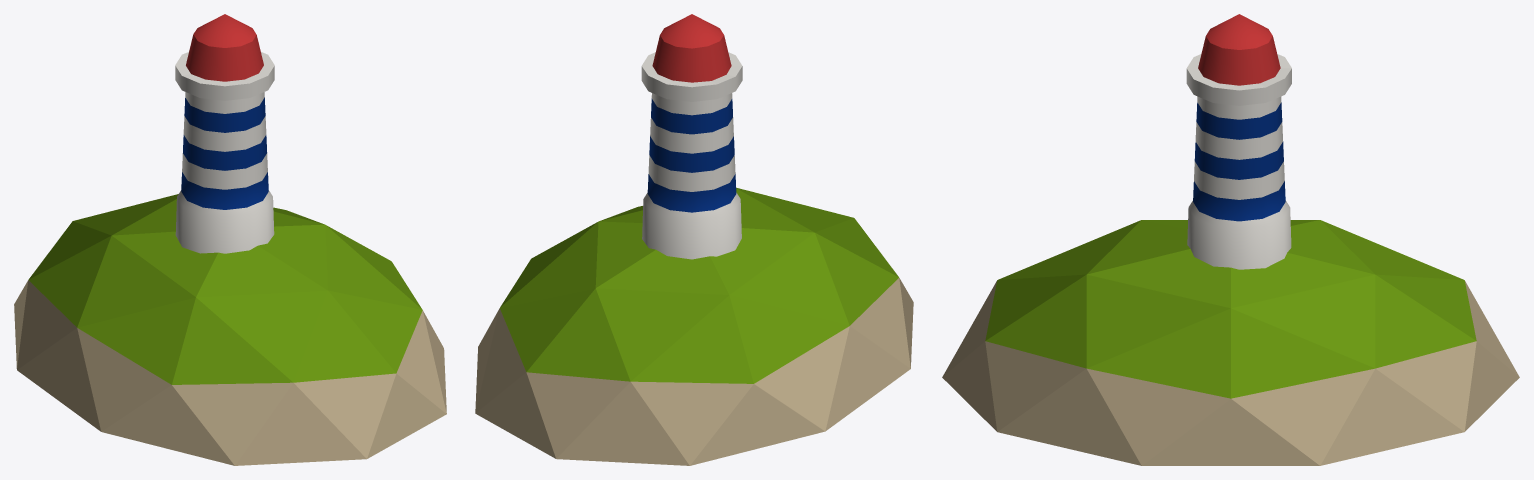
The model's file is e4fd19c8-60a9-4ece-91ba-5a8ff50dd5e2.glb.
The picture shows the model from 3 angles, left to right: view 1: azimuth 30°, elevation 25°; view 2: azimuth 150°, elevation 25°; view 3: azimuth 270°, elevation 25°; orthographic projection. The views are drawn at different scales.
Visible parts, largest first — view 1: GeoSphere001, ChamferCyl003; view 2: GeoSphere001, ChamferCyl003; view 3: GeoSphere001, ChamferCyl003.
Boxes of the visible parts, left/top/right/bottom form: GeoSphere001: left=14, top=194, right=446, bottom=465; ChamferCyl003: left=175, top=14, right=274, bottom=253; GeoSphere001: left=475, top=187, right=913, bottom=465; ChamferCyl003: left=641, top=14, right=742, bottom=259; GeoSphere001: left=942, top=220, right=1519, bottom=465; ChamferCyl003: left=1186, top=14, right=1291, bottom=269.
Size of the model in its own units: 18.68 by 17.85 by 25.77.
